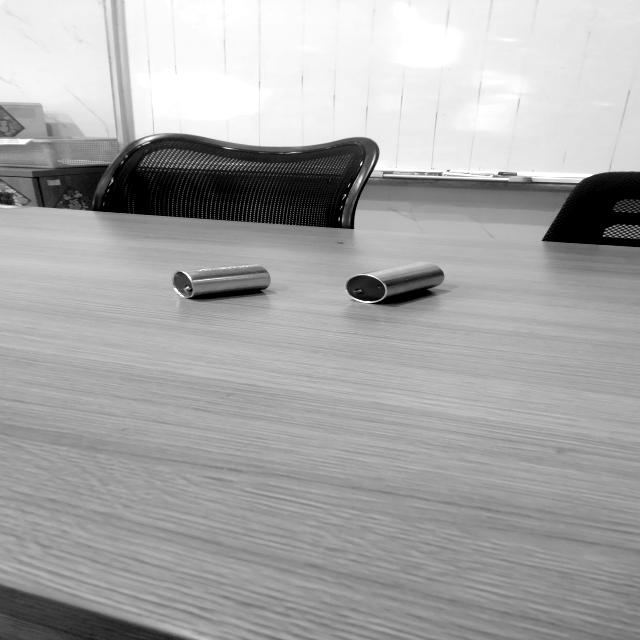Co_Lon: (343, 256, 447, 309)
Co_Nho: (172, 261, 272, 301)
